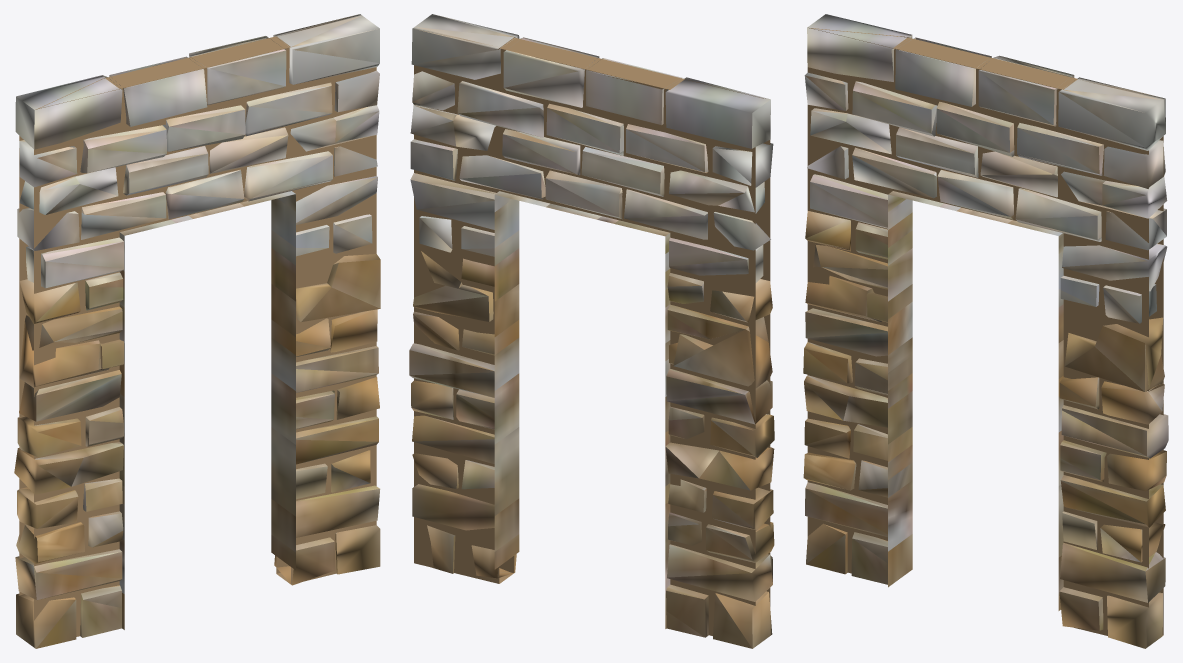
Rendered from wall-plaster-door.lod2.glb.
3 views of the same model, side by side, from view 1: azimuth 30°, elevation 25°; view 2: azimuth 150°, elevation 25°; view 3: azimuth 330°, elevation 25° (orthographic).
Bounding box in the file's own units: 2 × 3 × 0.25.
Materials: 1 (1 with a texture image).
